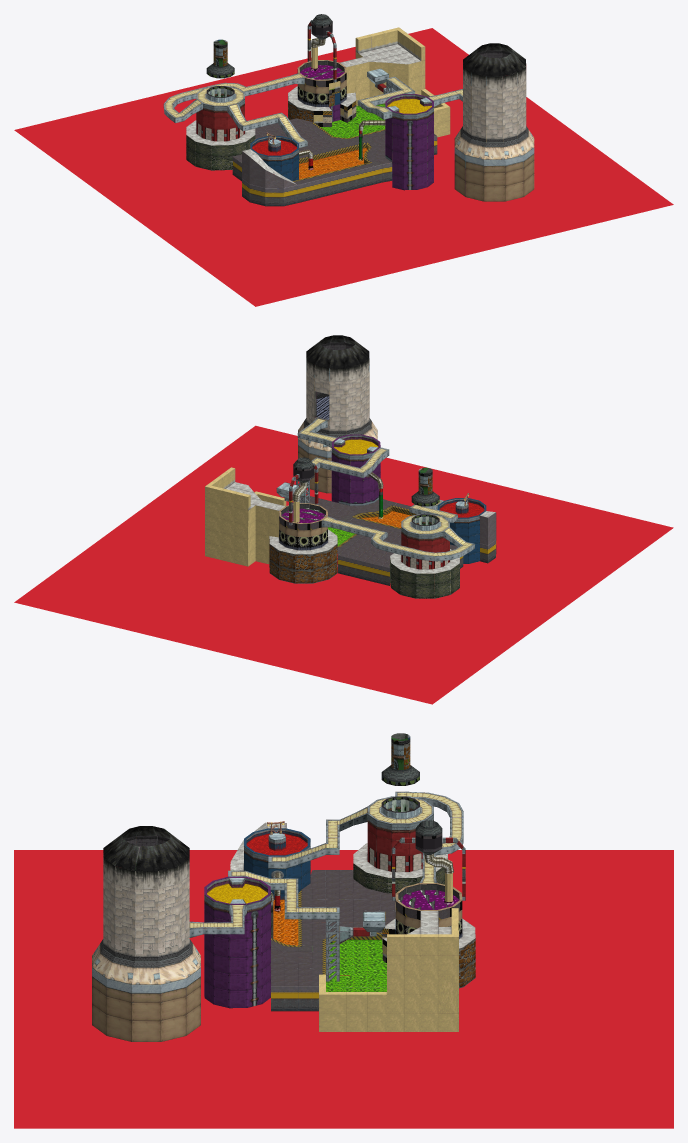
The model's file is test-zone2.glb.
The picture shows the model from 3 angles, top to bottom: view 1: azimuth 30°, elevation 25°; view 2: azimuth 150°, elevation 25°; view 3: azimuth 270°, elevation 25°; orthographic projection. The views are drawn at different scales.
Visible parts, largest first — view 1: DeathPlane, Frame_0.002, Frame_0.006; view 2: DeathPlane, Frame_0.002, Frame_0.006; view 3: DeathPlane, Frame_0.002, Frame_0.006.
Part boxes in pixels (x1,y1,x2,y2): DeathPlane: (14, 28, 673, 306); Frame_0.002: (163, 14, 534, 206); Frame_0.006: (252, 65, 431, 179); DeathPlane: (14, 425, 673, 704); Frame_0.002: (205, 335, 496, 598); Frame_0.006: (281, 439, 484, 546); DeathPlane: (14, 850, 673, 1128); Frame_0.002: (92, 733, 475, 1041); Frame_0.006: (207, 834, 459, 991).
Size of what is drawn, in the model's own units: 240 by 82.47 by 240.
Materials: 25 (24 with a texture image).
